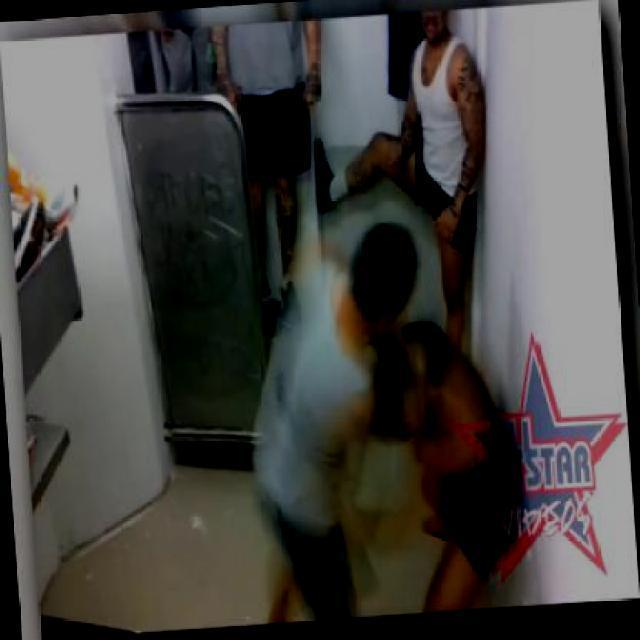fight: (230, 214, 502, 617)
